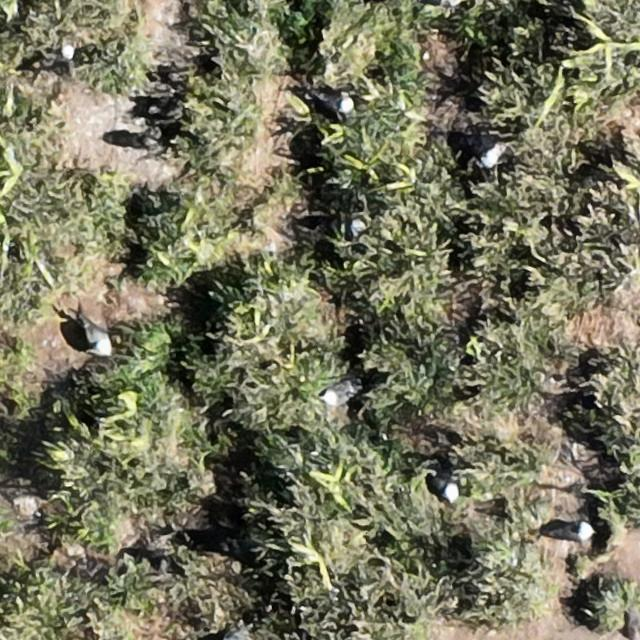umineko: (332, 214, 367, 240), (84, 324, 110, 355), (322, 384, 352, 406), (437, 475, 460, 502), (318, 93, 349, 113), (558, 524, 589, 542), (480, 143, 500, 169), (58, 37, 74, 63)
